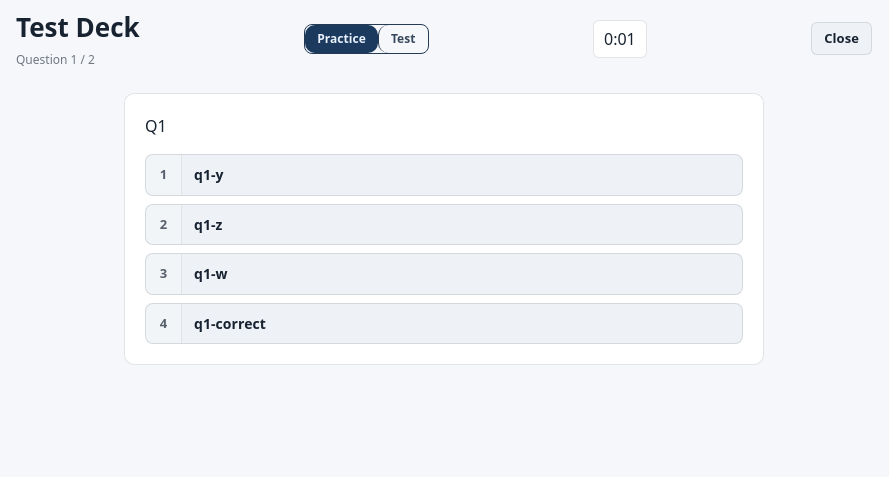
Test case: QuizRunner › test mode defers reveal, lets you answer all, then submits the full payload
This screenshot has width=889, height=477.
Expected: the text "Q1" is shown, [145,115,167,137]
Note: Switch to Test mode before answering.
Click the button "Test" at point(403, 38), box [378,24,428,52]
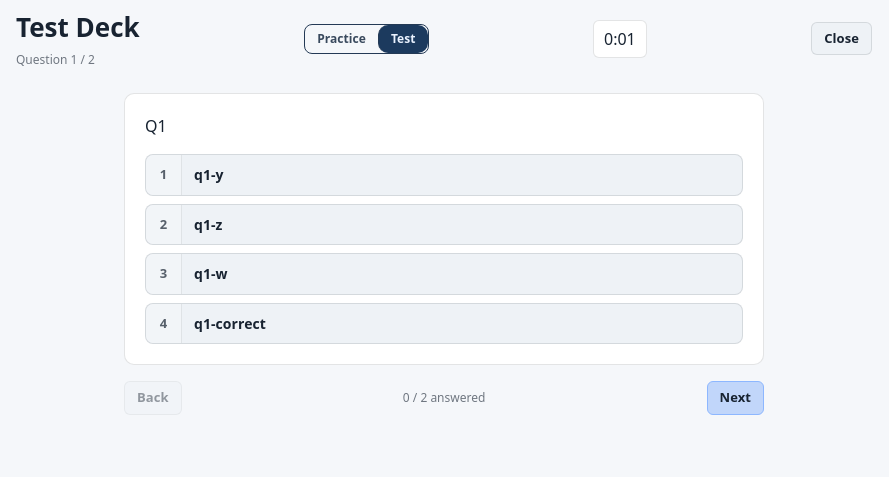
Click the text "q1-correct" at point(230, 323), box [194,314,266,333]
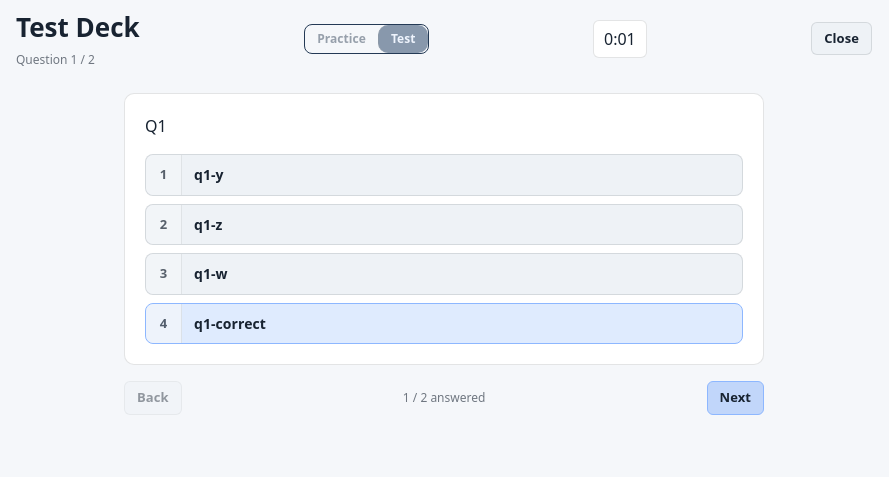
Click the button "Next" at point(735, 398), box [707,381,764,415]
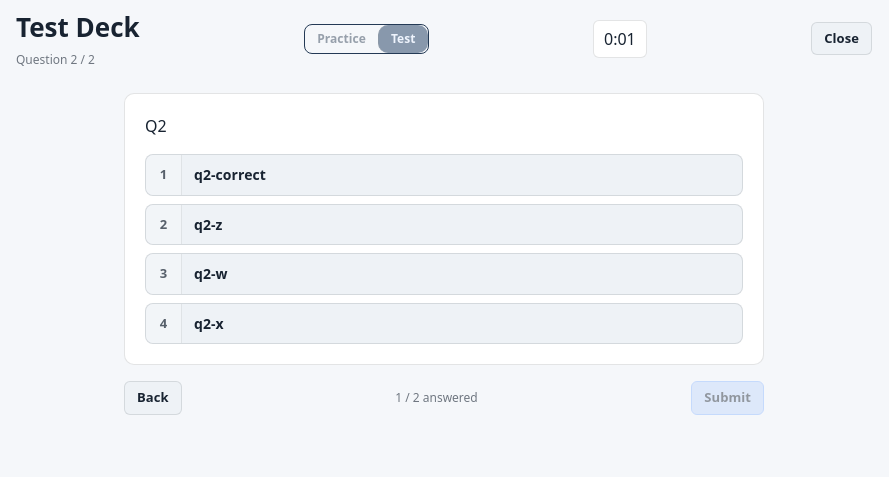
Expected: the text "Q2" is shown, [145,115,167,137]
Click the text "q2-w" at point(211, 274), box [194,264,228,283]
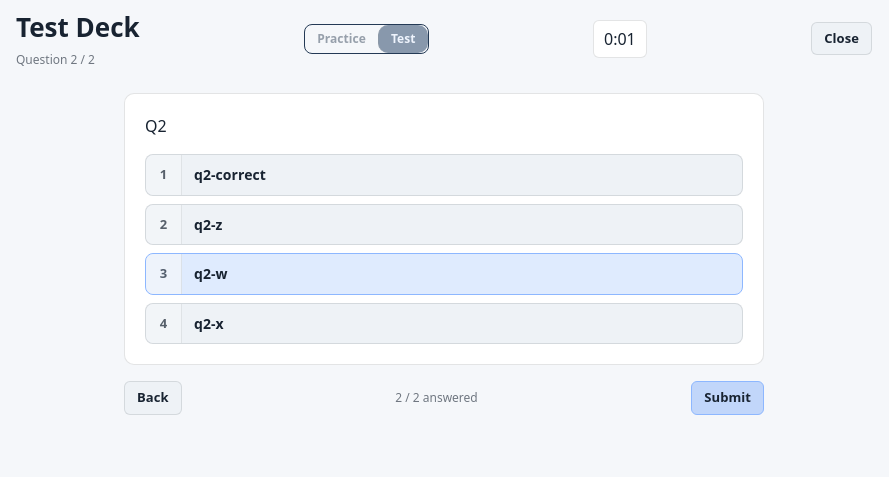
Click the button "Submit" at point(728, 398), box [691,381,764,415]
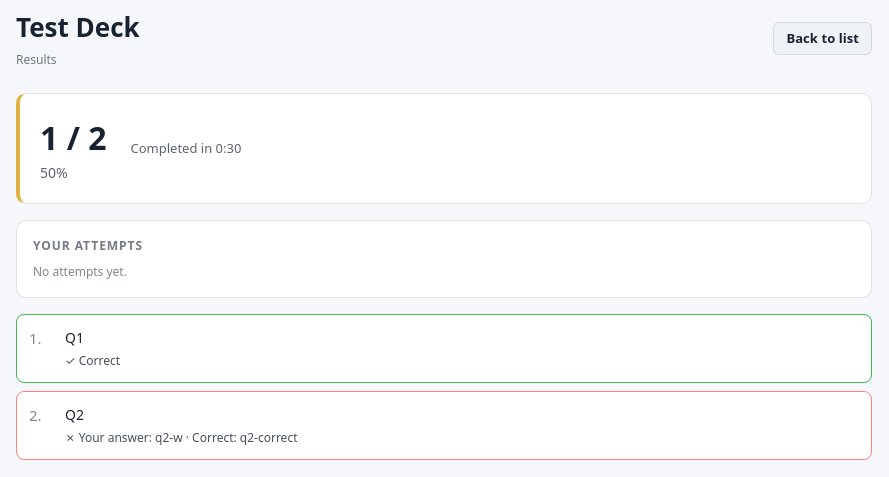
Expected: the text "Results" is shown, [16,51,57,68]
